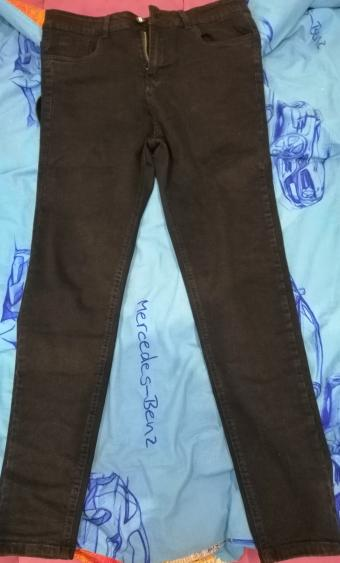jeans: (11, 9, 335, 563)
